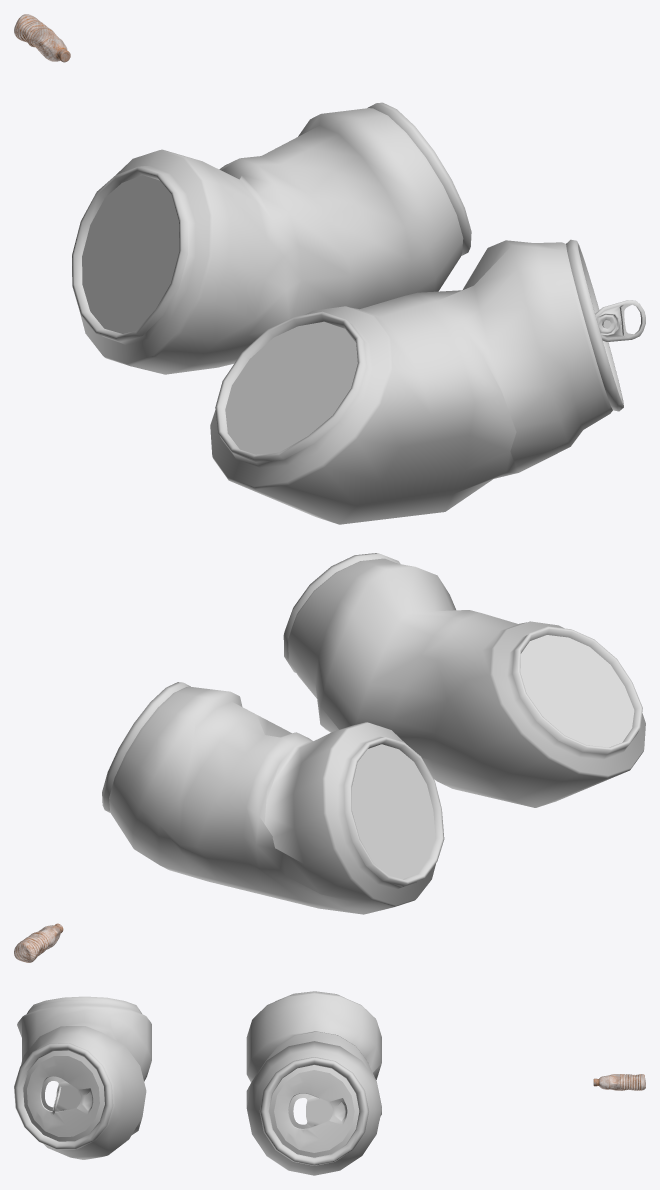
File: bottle.glb
The picture shows the model from 3 angles, top to bottom: view 1: azimuth 30°, elevation 25°; view 2: azimuth 150°, elevation 25°; view 3: azimuth 270°, elevation 25°; orthographic projection. The views are drawn at different scales.
Parts seen in each view (by area): view 1: cola_can_low002, cola_can_low001, Beat_Water_Bottle; view 2: cola_can_low002, cola_can_low001, Beat_Water_Bottle; view 3: cola_can_low001, cola_can_low002, Beat_Water_Bottle.
Part boxes in pixels (bbox=[...]): cola_can_low002: bbox=[210, 239, 645, 524]; cola_can_low001: bbox=[72, 102, 471, 374]; Beat_Water_Bottle: bbox=[14, 14, 67, 61]; cola_can_low002: bbox=[283, 553, 645, 807]; cola_can_low001: bbox=[102, 682, 444, 914]; Beat_Water_Bottle: bbox=[14, 925, 61, 962]; cola_can_low001: bbox=[246, 991, 381, 1175]; cola_can_low002: bbox=[14, 996, 151, 1159]; Beat_Water_Bottle: bbox=[597, 1074, 645, 1090].
Size of the model in its own units: 241 by 133 by 527.
3 materials, 2 textured.
